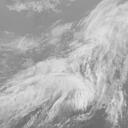cyclone: (49, 55, 105, 109)
